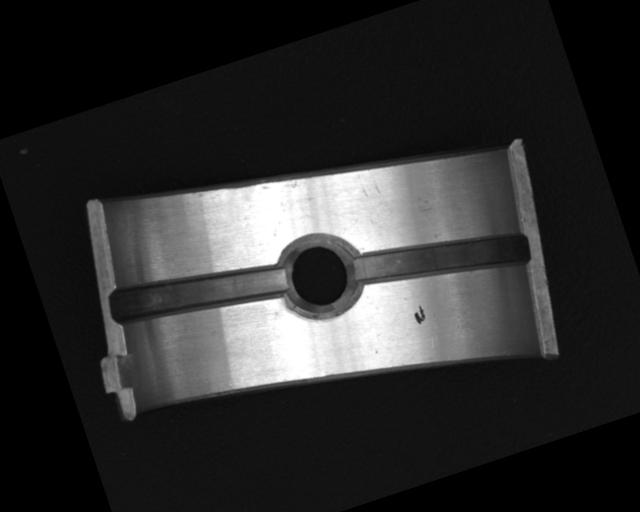blot: (411, 303, 428, 325)
gap: (105, 235, 295, 349), (348, 200, 532, 313)
hole: (275, 226, 368, 322)
